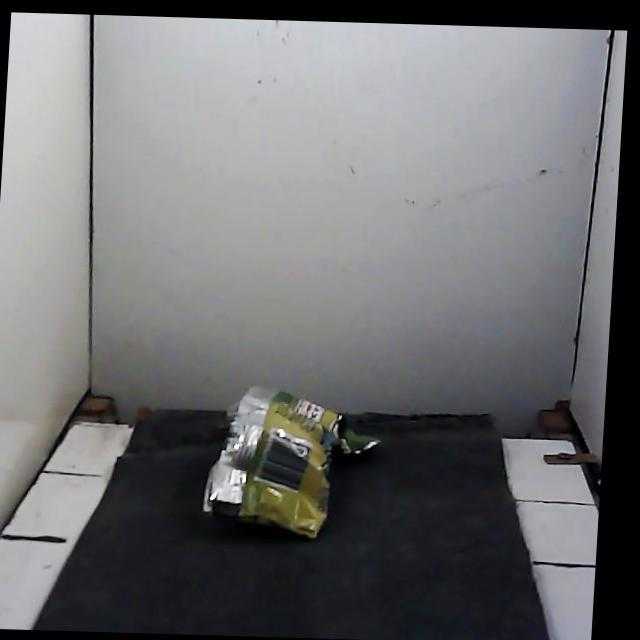plastico: (203, 387, 378, 538)
